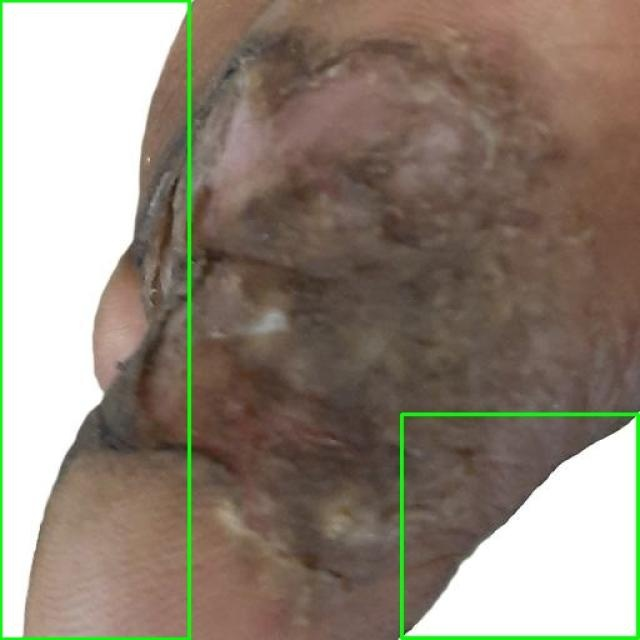Contact Dermatitis: (0, 0, 189, 639), (402, 415, 639, 639)
